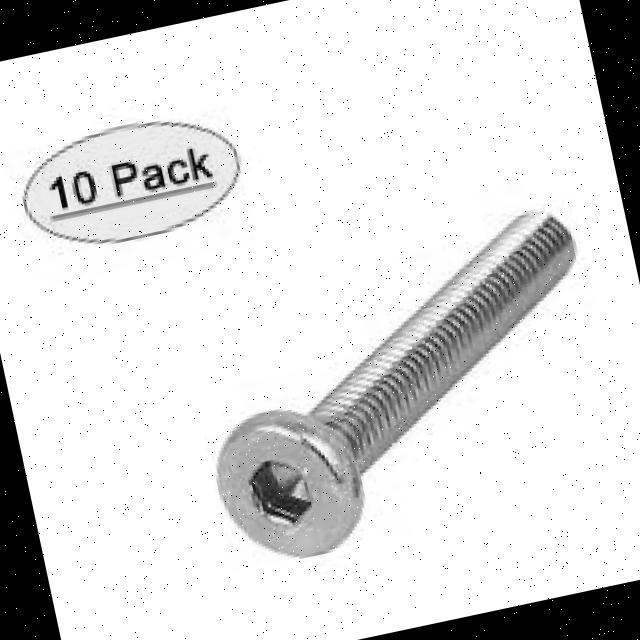Hex Socket Allen: (205, 409, 368, 576)
